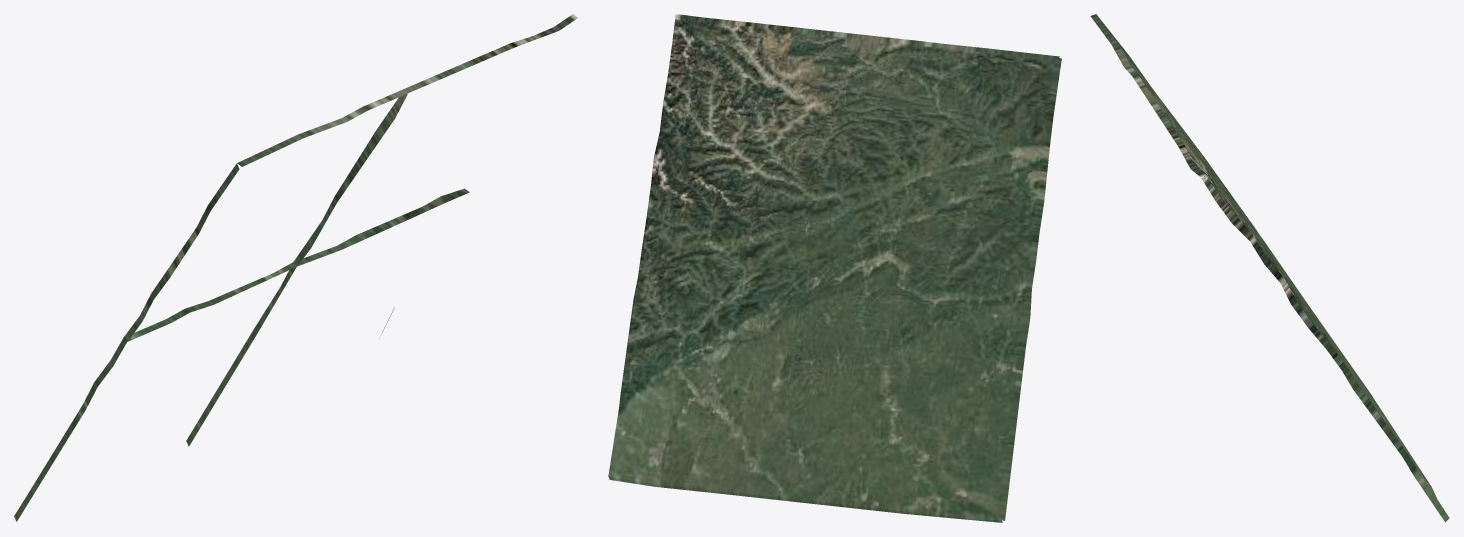
3 views of the same model, side by side, from view 1: azimuth 30°, elevation 25°; view 2: azimuth 150°, elevation 25°; view 3: azimuth 270°, elevation 25° (orthographic). The views are drawn at different scales.
Bounding box in the file's own units: 303008 × 270028 × 234714.
1 material, 1 textured.
